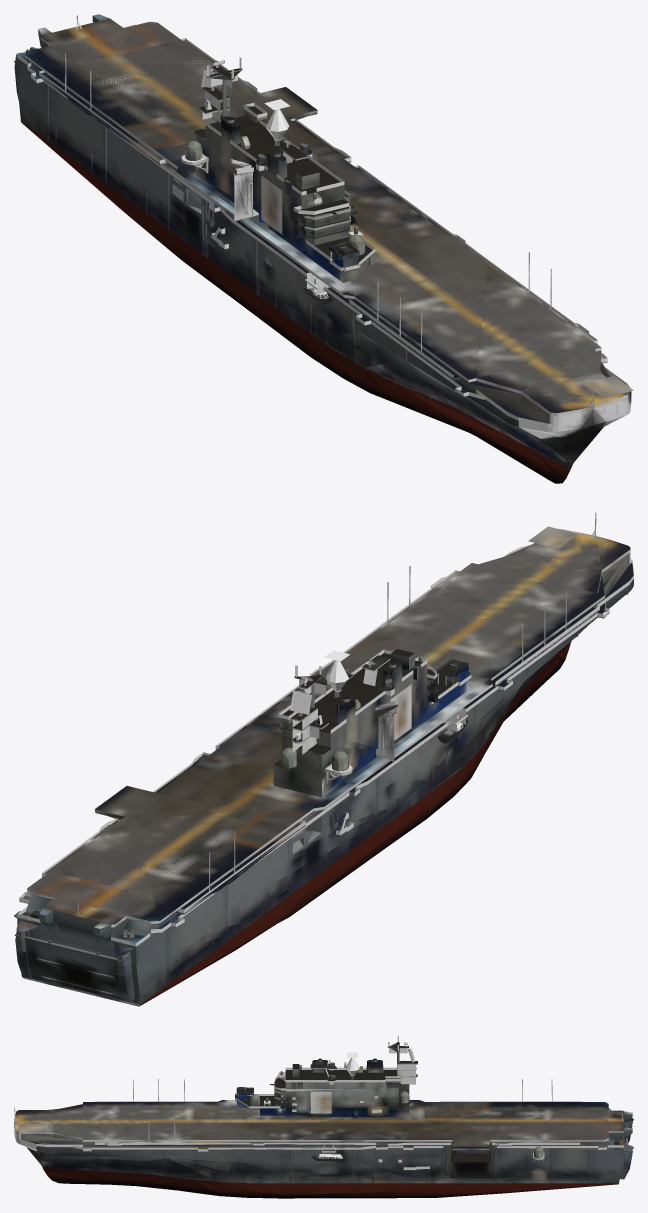
Rendered from LHA.fbx.
The picture shows the model from 3 angles, top to bottom: view 1: azimuth 30°, elevation 25°; view 2: azimuth 150°, elevation 25°; view 3: azimuth 270°, elevation 25°; orthographic projection. The views are drawn at different scales.
Parts seen in each view (by area): view 1: LHA; view 2: LHA; view 3: LHA.
Part boxes in pixels (x1,y1,x2,y2): LHA: [14, 14, 633, 483]; LHA: [14, 512, 633, 1006]; LHA: [14, 1035, 633, 1198].
Size of the model in its own units: 50.48 by 59.7 by 257.
Materials: 1 (1 with a texture image).
